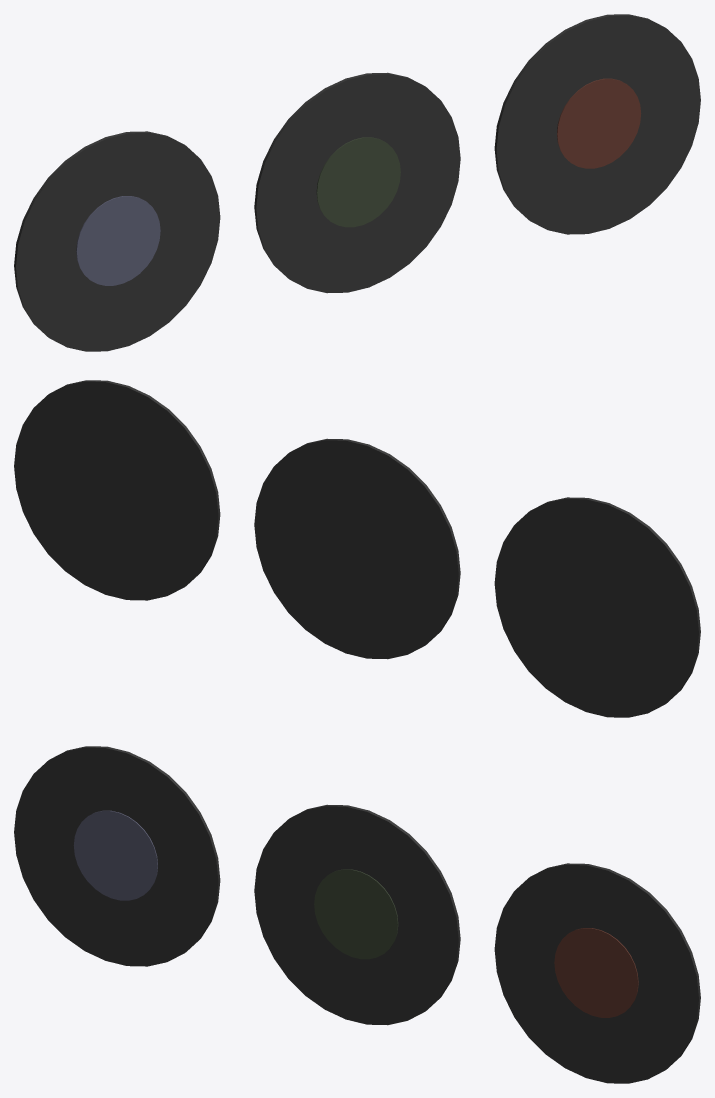
The model's file is colored vinyls deskroom.fbx.
The picture shows the model from 3 angles, top to bottom: view 1: azimuth 30°, elevation 25°; view 2: azimuth 150°, elevation 25°; view 3: azimuth 330°, elevation 25°; orthographic projection.
Visible parts, largest first — view 1: pasted__pCylinder10, pasted__pCylinder9, pasted__pCylinder7, pasted__pCylinder6; view 2: pasted__pCylinder10; view 3: pasted__pCylinder10, pasted__pCylinder6, pasted__pCylinder7, pasted__pCylinder9.
Boxes of the visible parts, x1,y1,x2,y2 form: pasted__pCylinder10: [14, 14, 700, 351]; pasted__pCylinder9: [557, 78, 641, 168]; pasted__pCylinder7: [316, 137, 400, 227]; pasted__pCylinder6: [76, 196, 160, 285]; pasted__pCylinder10: [14, 380, 700, 717]; pasted__pCylinder10: [14, 746, 700, 1083]; pasted__pCylinder6: [73, 810, 157, 900]; pasted__pCylinder7: [314, 869, 398, 959]; pasted__pCylinder9: [554, 928, 638, 1017].
Bounding box in the file's own units: 1.38 × 0.4105 × 0.00861.
